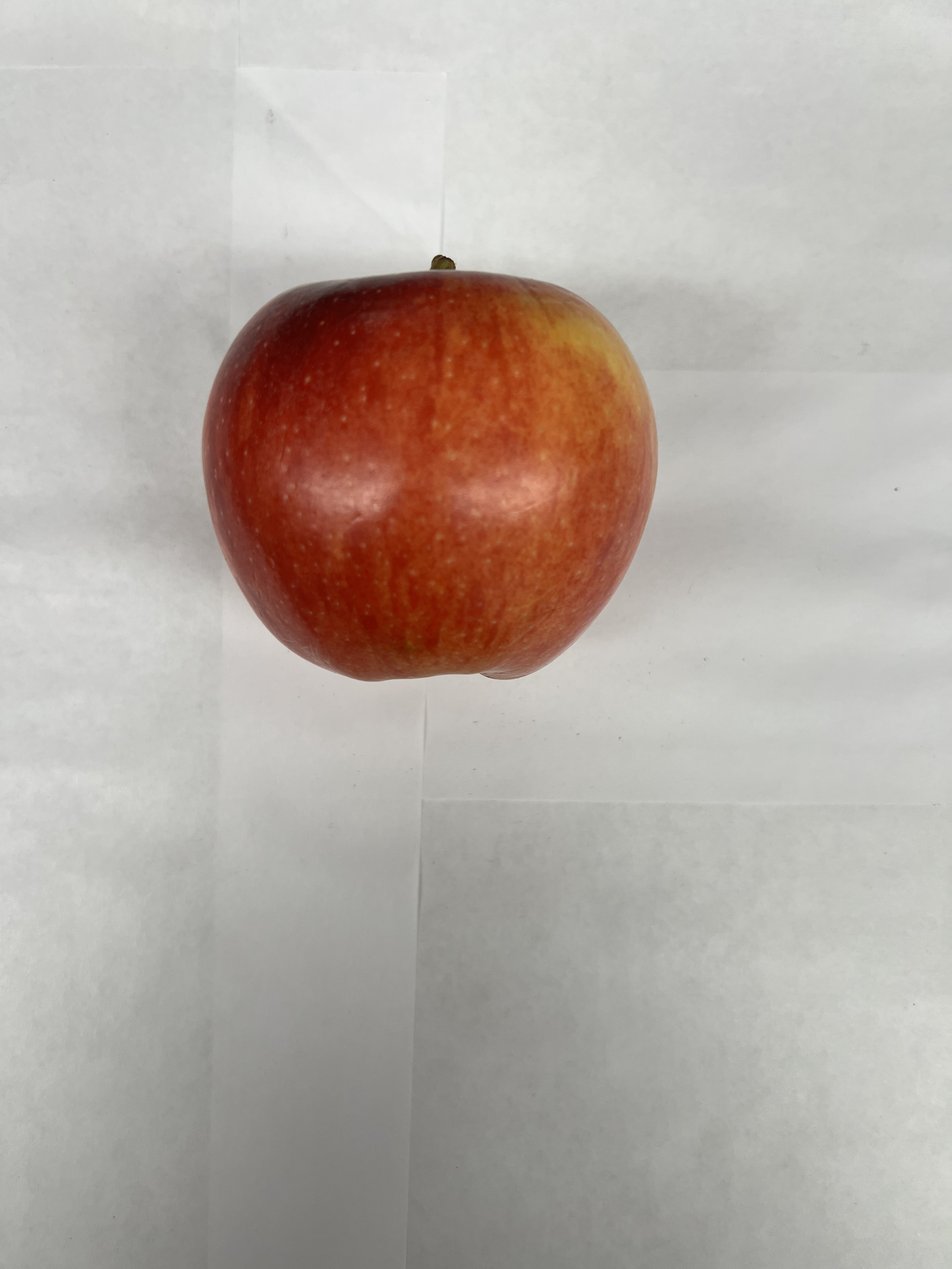produce: (196, 249, 670, 692)
